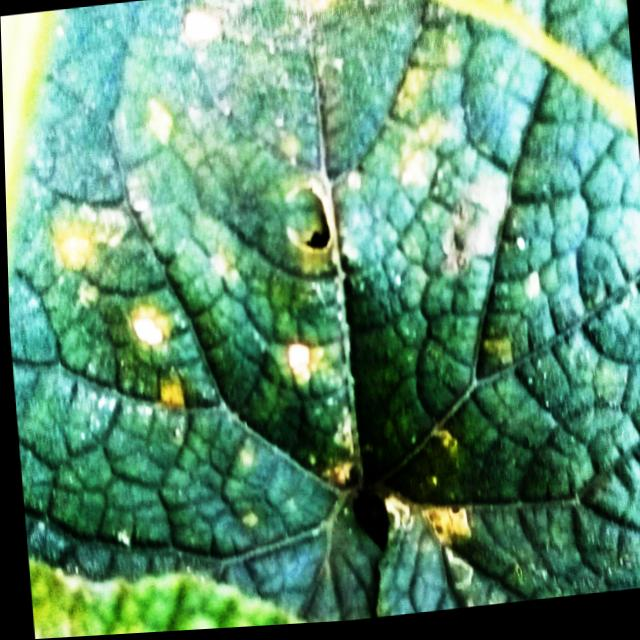Downy-Mildew: (6, 0, 631, 623)
